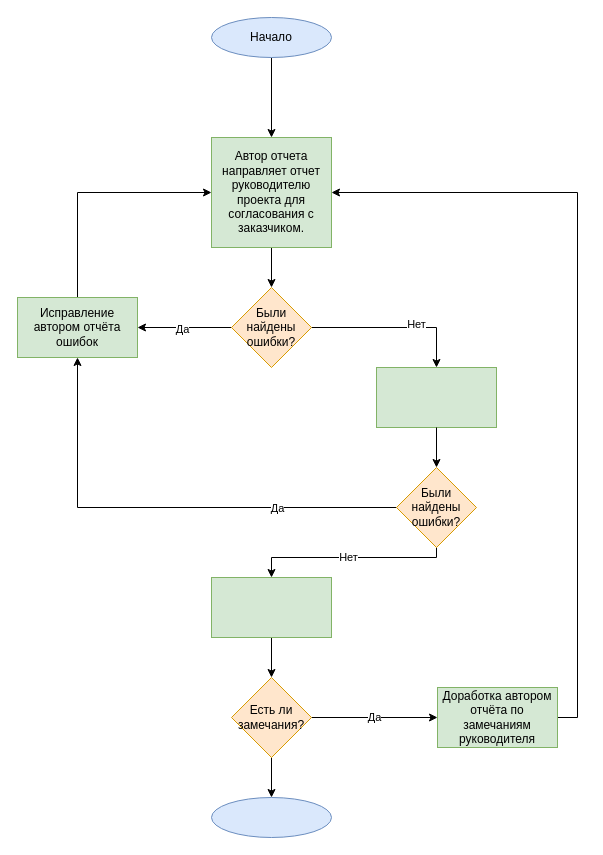
The diagram is 603 pixels wide and 855 high, and some of its shapes have lost their labels. Each missing label, with the centre of its shape:
"Конец" belongs at pixel 271 817.
"Переход отчёта к руководителю проекта" belongs at pixel 271 607.
"Переход отчёта к согласующим лицам" belongs at pixel 436 397.
